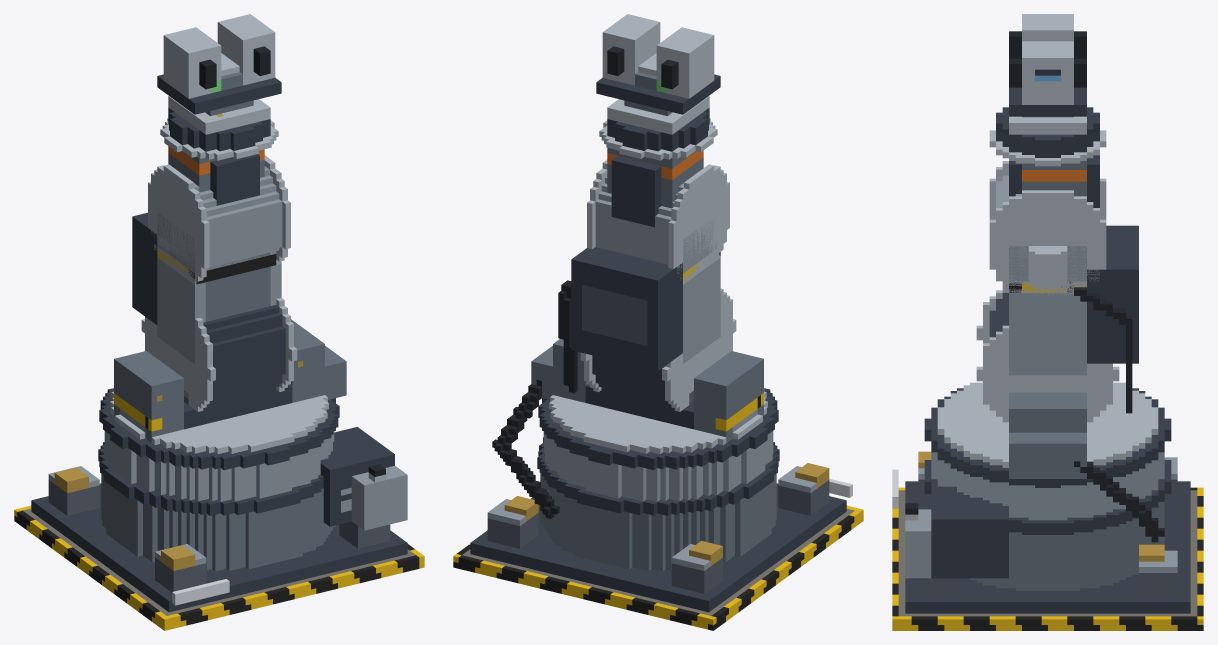
The model's file is robot_arm.obj.
3 renders of one model, left to right at view 1: azimuth 30°, elevation 25°; view 2: azimuth 150°, elevation 25°; view 3: azimuth 270°, elevation 25°, orthographic. The views are drawn at different scales.
Visible parts, largest first — view 1: base, turret, shoulder, elbow, gripper, wrist; view 2: base, turret, shoulder, elbow, gripper, wrist; view 3: base, turret, shoulder, elbow, gripper, wrist.
Boxes of the visible parts, x1=… form: base: x1=14, y1=427, x2=424, y2=630; turret: x1=99, y1=319, x2=346, y2=501; shoulder: x1=132, y1=212, x2=297, y2=411; elbow: x1=148, y1=146, x2=290, y2=284; gripper: x1=157, y1=14, x2=281, y2=114; wrist: x1=160, y1=96, x2=278, y2=160; base: x1=453, y1=437, x2=863, y2=630; turret: x1=492, y1=339, x2=778, y2=518; shoulder: x1=558, y1=220, x2=736, y2=411; elbow: x1=587, y1=148, x2=729, y2=284; gripper: x1=596, y1=14, x2=720, y2=114; wrist: x1=599, y1=96, x2=717, y2=160; base: x1=892, y1=451, x2=1203, y2=630; turret: x1=924, y1=382, x2=1171, y2=542; shoulder: x1=976, y1=225, x2=1138, y2=422; elbow: x1=989, y1=155, x2=1106, y2=295; gripper: x1=1009, y1=14, x2=1086, y2=116; wrist: x1=989, y1=107, x2=1106, y2=166.
Bounding box in the file's own units: 1.5 × 2.81 × 1.5.
